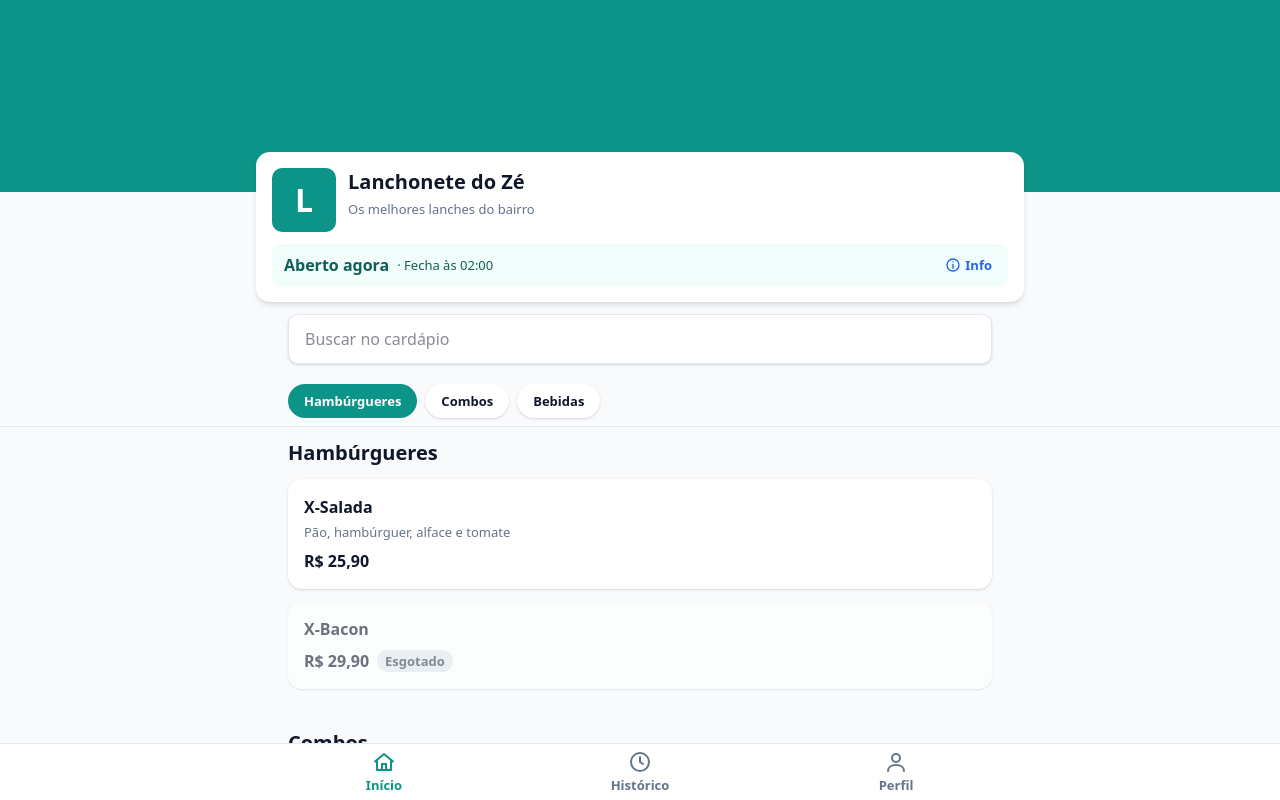
it: escolher o produto › tocar no produto abre a janela dele
Check: the heading "Lanchonete do Zé" is shown, box [348,168,535,196]
What coordinates should you click on to do the following:
click the button "X-Salada"
I would click on:
 (338, 507)
Its box is [304,495,373,519].
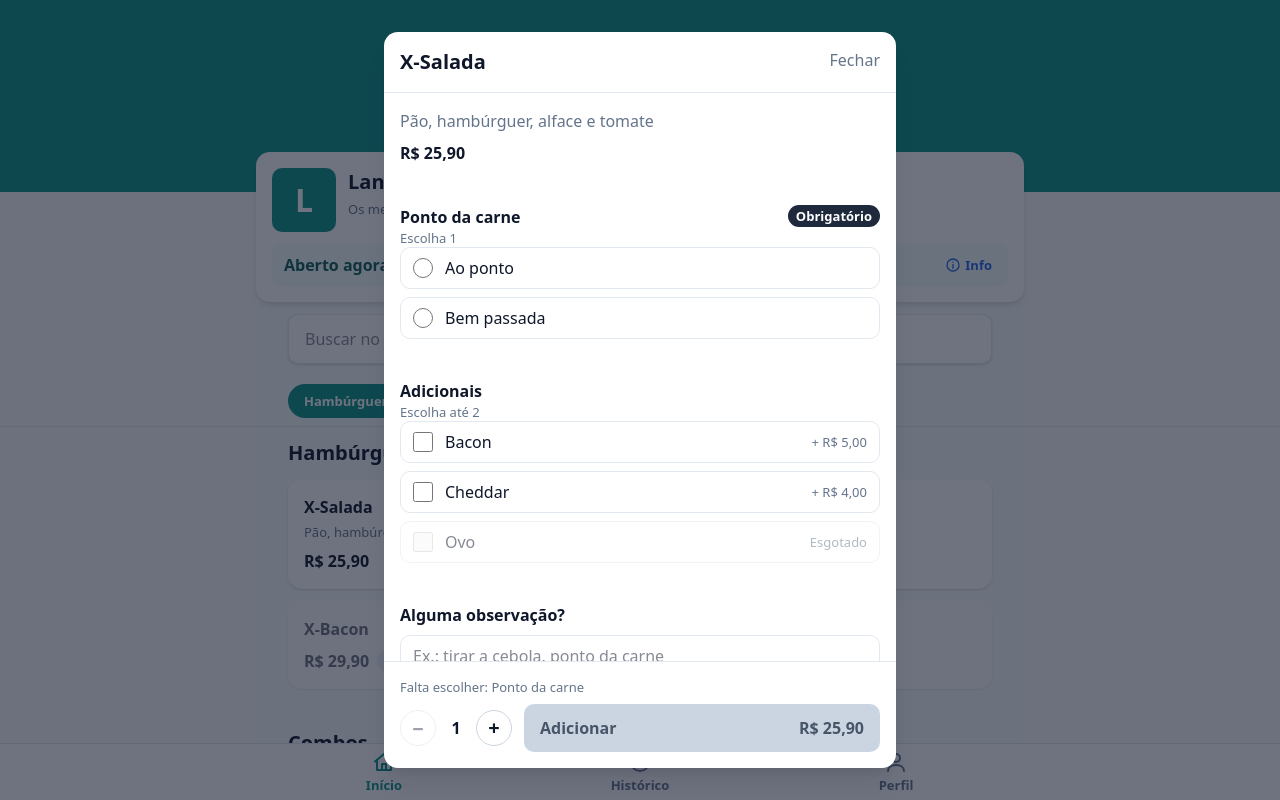
Check: the heading "X-Salada" is shown, box [400,48,486,76]
Check: the text "Pão, hambúrguer, alface e tomate" is shown, box [400,110,654,132]
